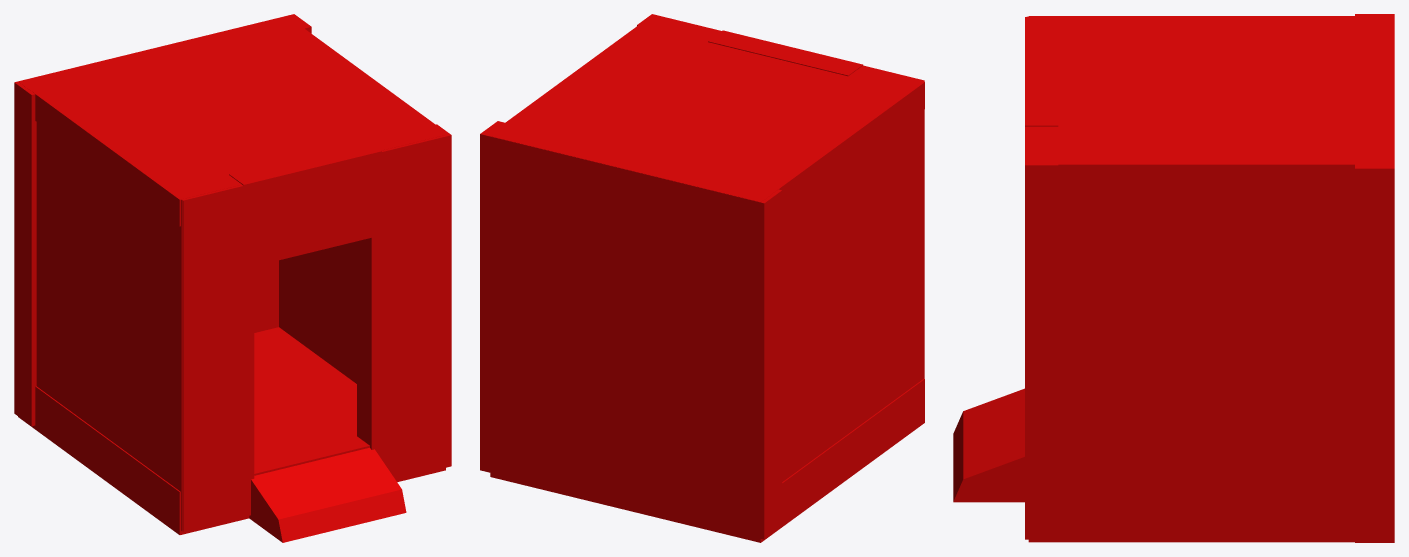
Rendered from SM_Bld_Mexican_03_Collision.fbx.
The picture shows the model from 3 angles, left to right: view 1: azimuth 30°, elevation 25°; view 2: azimuth 150°, elevation 25°; view 3: azimuth 270°, elevation 25°; orthographic projection. The views are drawn at different scales.
Parts seen in each view (by area): view 1: SM_Bld_Mexican_03_Collision; view 2: SM_Bld_Mexican_03_Collision; view 3: SM_Bld_Mexican_03_Collision.
Boxes of the visible parts, x1,y1,x2,y2 form: SM_Bld_Mexican_03_Collision: [14, 14, 451, 542]; SM_Bld_Mexican_03_Collision: [480, 14, 924, 542]; SM_Bld_Mexican_03_Collision: [953, 14, 1394, 542].
Bounding box in the file's own units: 306 × 352 × 370.
